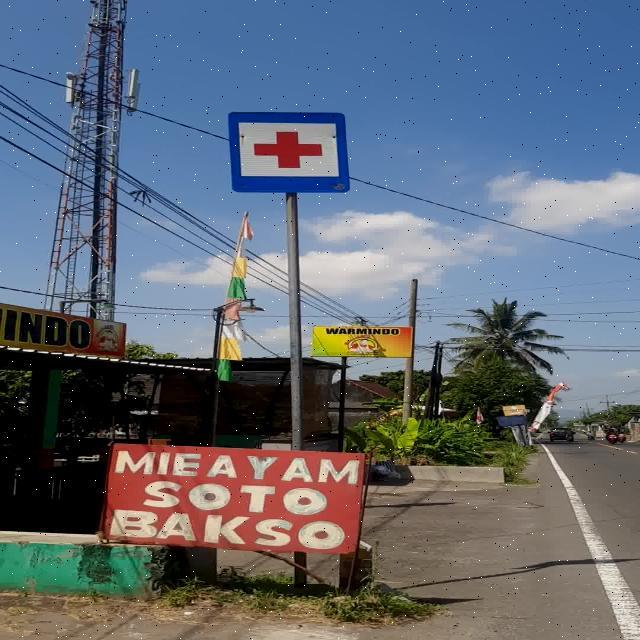Balai Pertolongan Pertama: (228, 112, 350, 193)
